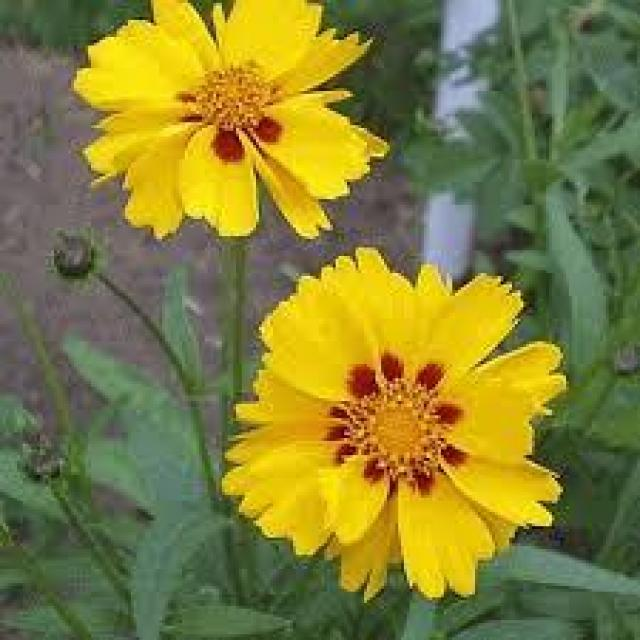organic waste: (210, 250, 578, 600), (80, 12, 395, 234)
